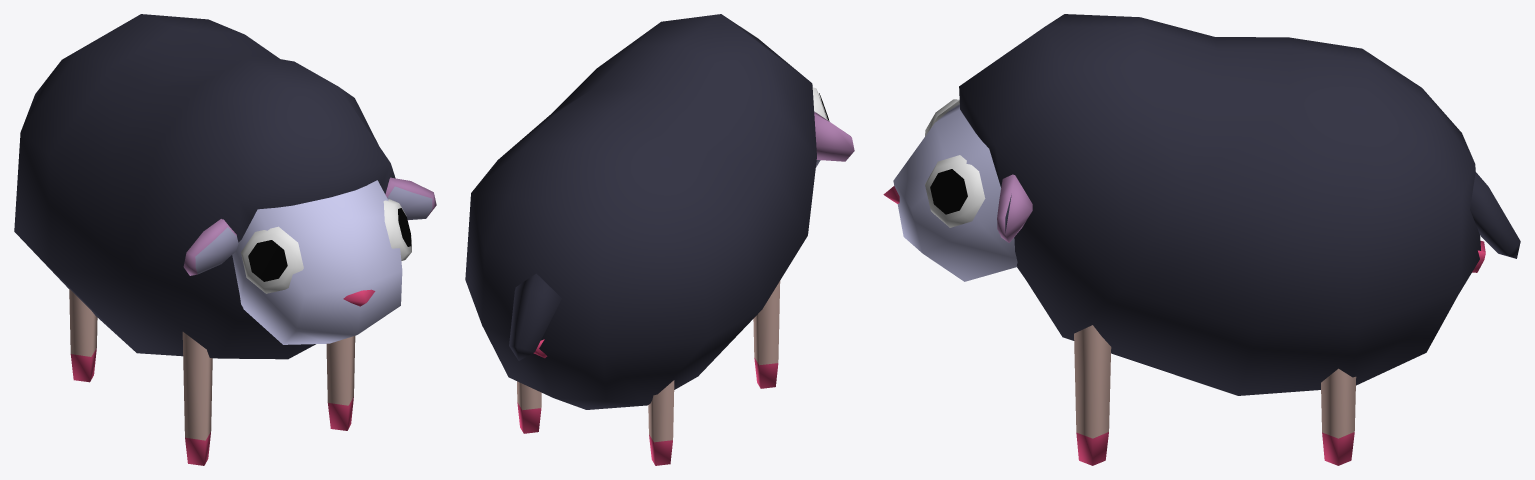
File: Sheep_Black.fbx
The picture shows the model from 3 angles, left to right: view 1: azimuth 30°, elevation 25°; view 2: azimuth 150°, elevation 25°; view 3: azimuth 270°, elevation 25°; orthographic projection. The views are drawn at different scales.
Parts seen in each view (by area): view 1: Sheep; view 2: Sheep; view 3: Sheep.
Boxes of the visible parts, left/top/right/bottom form: Sheep: left=14, top=14, right=436, bottom=465; Sheep: left=465, top=14, right=854, bottom=465; Sheep: left=883, top=14, right=1520, bottom=465.
Size of the model in its own units: 160 by 196 by 286.
